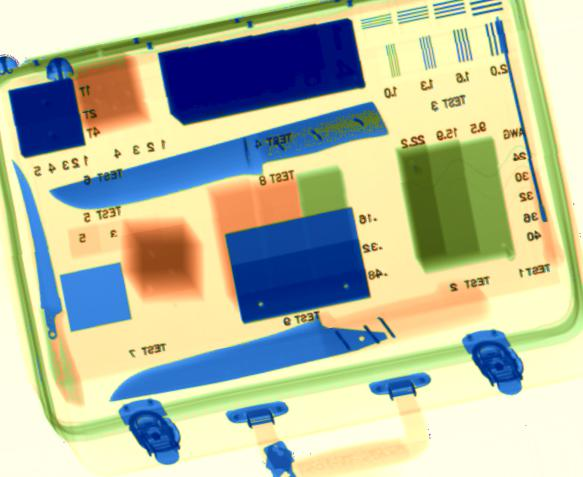Knife: (48, 102, 390, 213), (106, 304, 404, 403), (10, 160, 85, 405)
